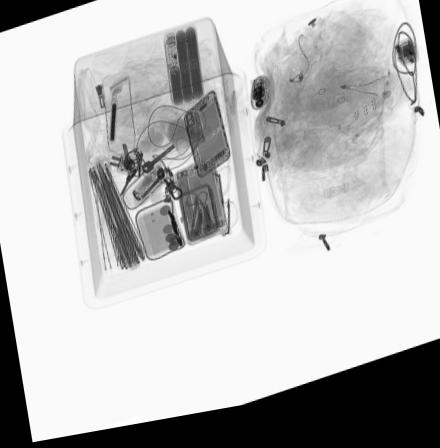Powerbank: (163, 28, 207, 116)
